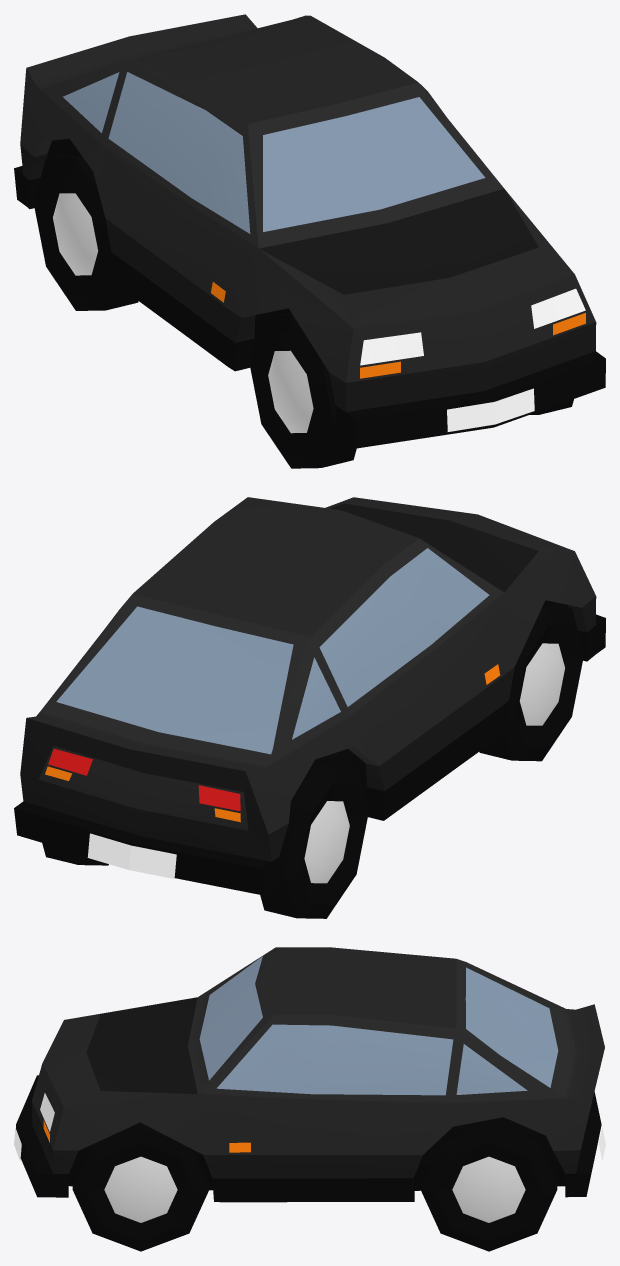
File: sedan_black.glb
The picture shows the model from 3 angles, top to bottom: view 1: azimuth 30°, elevation 25°; view 2: azimuth 150°, elevation 25°; view 3: azimuth 270°, elevation 25°; orthographic projection. The views are drawn at different scales.
Visible parts, largest first — view 1: Object_18; view 2: Object_18; view 3: Object_18.
Boxes of the visible parts, <box> form: Object_18: <box>14,14,605,468</box>; Object_18: <box>14,497,605,918</box>; Object_18: <box>14,947,605,1251</box>.
Bounding box in the file's own units: 2.47 × 2.37 × 5.68.
1 material, 1 textured.
